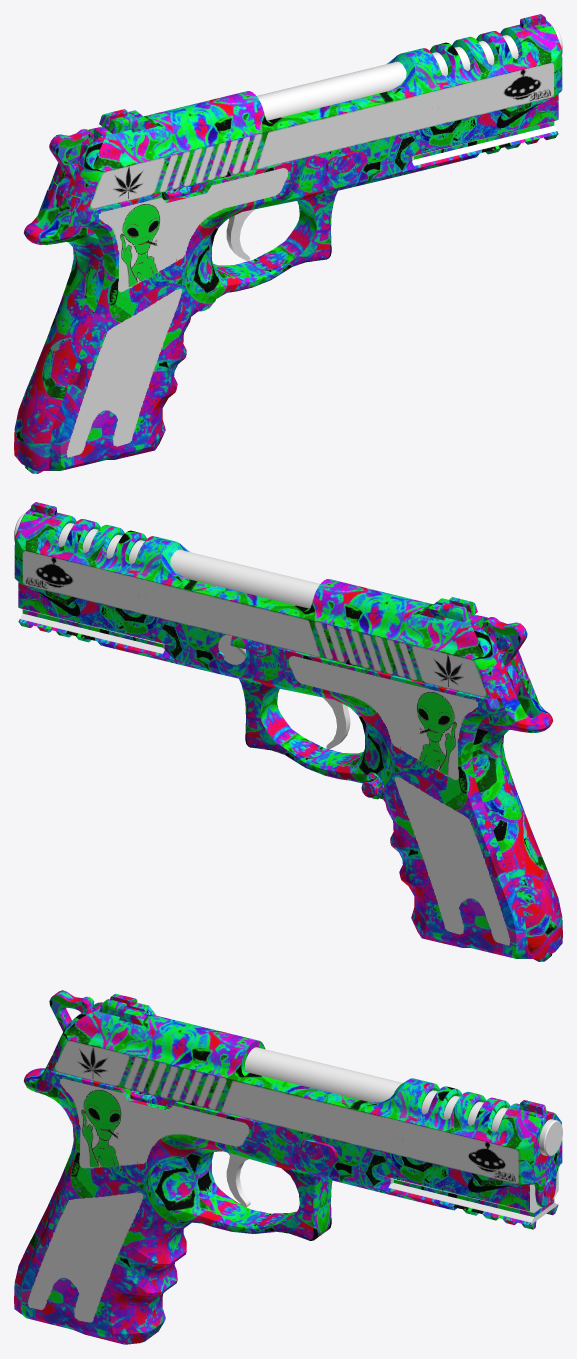
Rendered from pistolmk2_aj.glb.
3 views of the same model, one above another, from view 1: azimuth 30°, elevation 25°; view 2: azimuth 150°, elevation 25°; view 3: azimuth 330°, elevation 25° (orthographic).
Parts seen in each view (by area): view 1: Gun_Root; view 2: Gun_Root; view 3: Gun_Root.
Boxes of the visible parts, x1,y1,x2,y2 form: Gun_Root: (14, 14, 562, 473); Gun_Root: (14, 502, 562, 961); Gun_Root: (14, 990, 562, 1344).
Size of the model in its own units: 0.2219 by 0.134 by 0.0318.
1 material, 1 textured.
